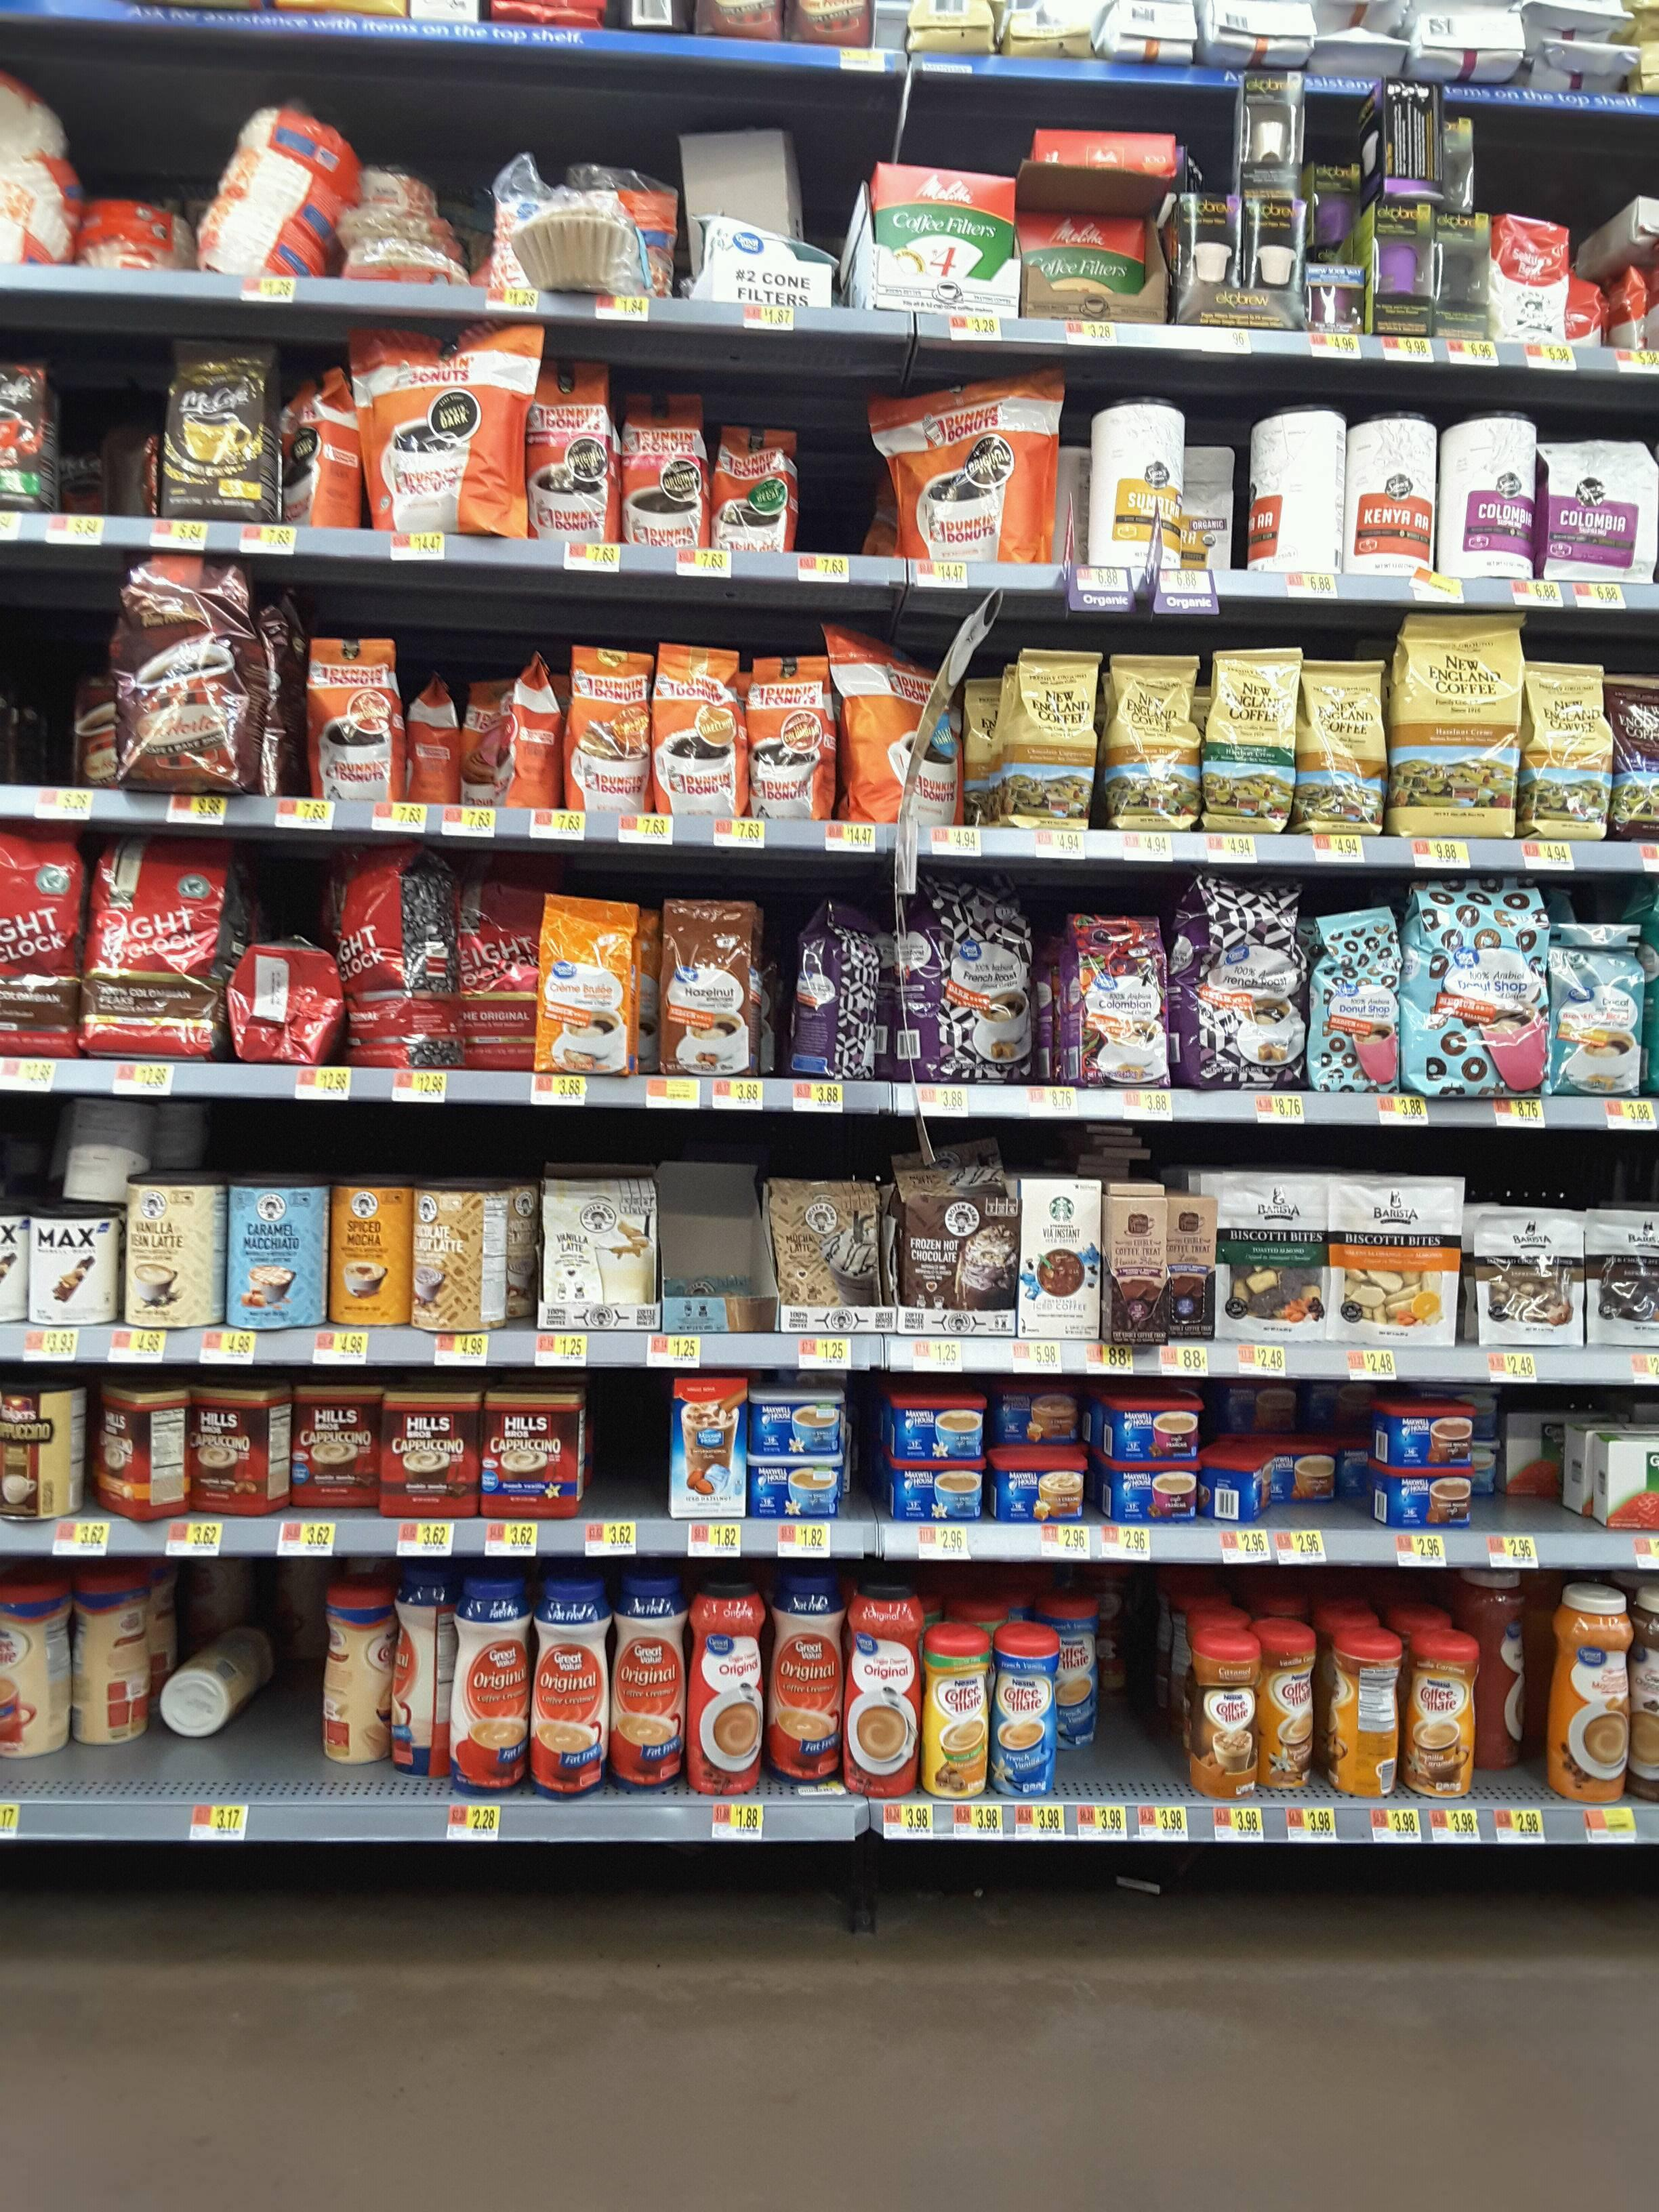misalignment: (216, 82, 350, 282), (397, 665, 565, 803), (216, 935, 354, 1069), (261, 354, 366, 526), (788, 902, 887, 1076), (157, 1611, 281, 1742), (82, 1379, 199, 1515), (491, 188, 638, 289), (1007, 113, 1201, 178), (1208, 1423, 1279, 1527)
